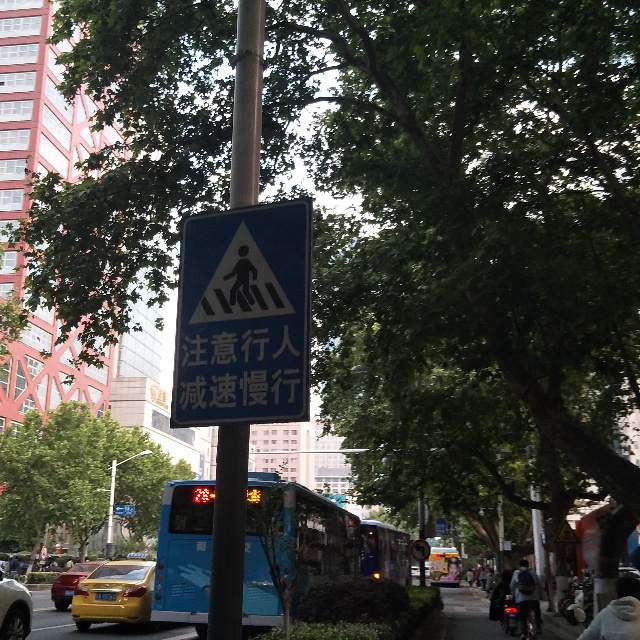crosswalk: (175, 208, 311, 425)
